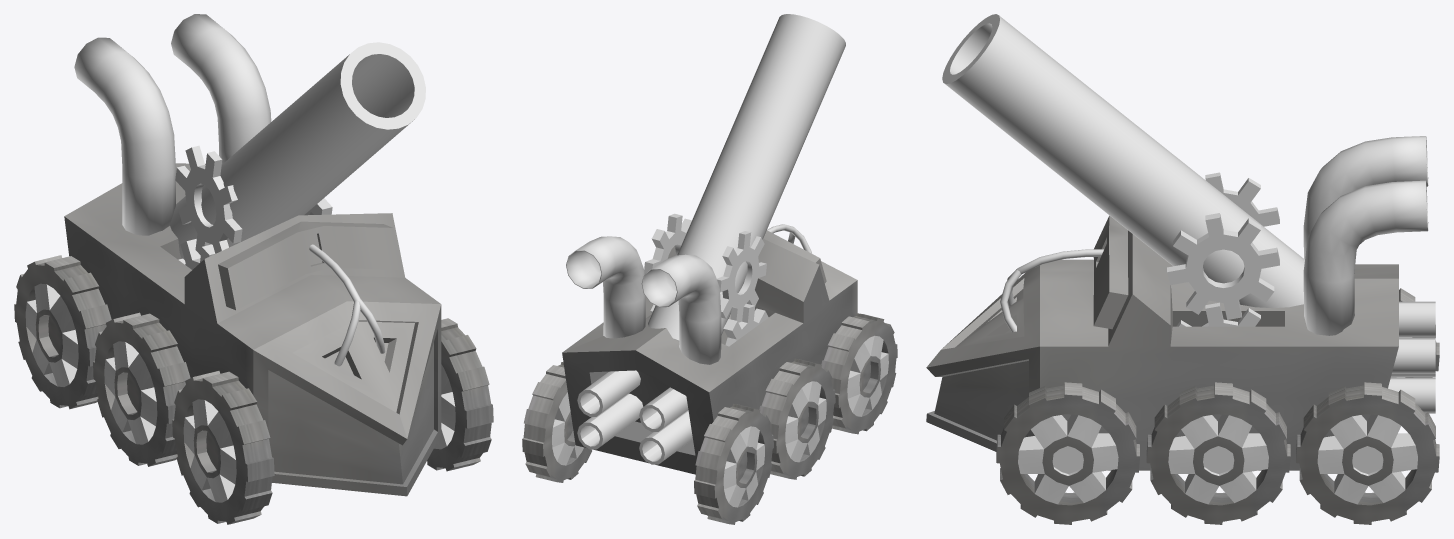
File: Tank3.fbx
The picture shows the model from 3 angles, left to right: view 1: azimuth 30°, elevation 25°; view 2: azimuth 150°, elevation 25°; view 3: azimuth 270°, elevation 25°; orthographic projection. The views are drawn at different scales.
Parts seen in each view (by area): view 1: Cube.012, Cylinder.064, Cylinder.145, Cube.014, Cylinder.144, Cylinder.143, Cube.013, Cylinder.148, Cylinder.070, Cube.015, Cylinder.071; view 2: Cube.012, Cylinder.064, Cylinder.143, Cylinder.145, Cylinder.144, Cube.014, Cube.013, Cylinder.146, Cylinder.070, Cylinder.067, Cylinder.065, Cylinder.068 (+3 smaller); view 3: Cube.012, Cylinder.064, Cylinder.147, Cylinder.146, Cylinder.148, Cube.013, Cylinder.063, Cube.014, Cylinder.065, Cylinder.066, Cylinder.070, Cube.015 (+2 smaller).
Boxes of the visible parts, x1,y1,x2,y2 form: Cube.012: [64, 163, 441, 496]; Cylinder.064: [170, 42, 425, 259]; Cylinder.145: [172, 371, 274, 524]; Cube.014: [74, 37, 175, 235]; Cylinder.144: [93, 312, 190, 466]; Cylinder.143: [14, 255, 111, 409]; Cube.013: [171, 14, 271, 164]; Cylinder.148: [427, 318, 493, 471]; Cylinder.070: [175, 145, 242, 255]; Cube.015: [309, 244, 385, 366]; Cylinder.071: [178, 239, 215, 269]; Cube.012: [562, 230, 857, 474]; Cylinder.064: [648, 14, 845, 340]; Cylinder.143: [694, 404, 773, 524]; Cylinder.145: [821, 313, 897, 434]; Cylinder.144: [759, 358, 835, 479]; Cube.014: [641, 254, 721, 364]; Cube.013: [566, 236, 645, 338]; Cylinder.146: [522, 362, 591, 482]; Cylinder.070: [717, 231, 766, 322]; Cylinder.067: [577, 393, 643, 449]; Cylinder.065: [577, 370, 640, 416]; Cylinder.068: [639, 410, 692, 464]; Cube.012: [926, 215, 1398, 470]; Cylinder.064: [942, 14, 1304, 308]; Cylinder.147: [1146, 382, 1290, 524]; Cylinder.146: [1296, 382, 1439, 524]; Cylinder.148: [996, 382, 1139, 524]; Cube.013: [1303, 180, 1428, 335]; Cylinder.063: [1167, 213, 1279, 319]; Cube.014: [1303, 136, 1428, 273]; Cylinder.065: [1392, 338, 1435, 374]; Cylinder.066: [1399, 301, 1435, 337]; Cylinder.070: [1205, 172, 1279, 226]; Cube.015: [1000, 249, 1103, 332].
Size of the model in its own units: 216 by 389 by 404.
